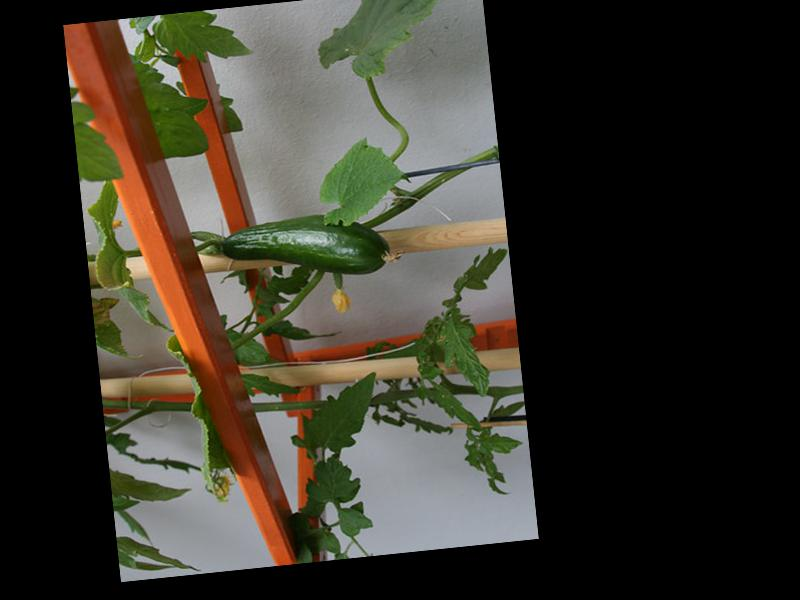Cucumber: (220, 207, 403, 288)
